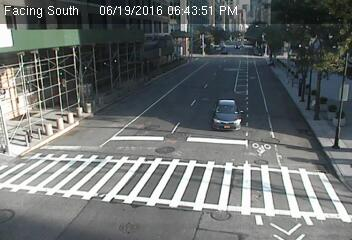neg: (105, 105, 129, 137), (78, 173, 99, 202), (24, 151, 44, 177), (215, 97, 233, 121), (133, 136, 150, 159), (307, 81, 324, 103), (312, 120, 329, 142), (44, 92, 61, 114), (143, 51, 160, 73), (196, 196, 212, 218), (274, 44, 290, 66), (260, 81, 276, 102), (180, 68, 196, 89), (251, 138, 266, 159), (93, 55, 108, 76), (170, 164, 185, 184), (305, 154, 320, 173), (238, 38, 252, 56), (247, 193, 258, 208)
